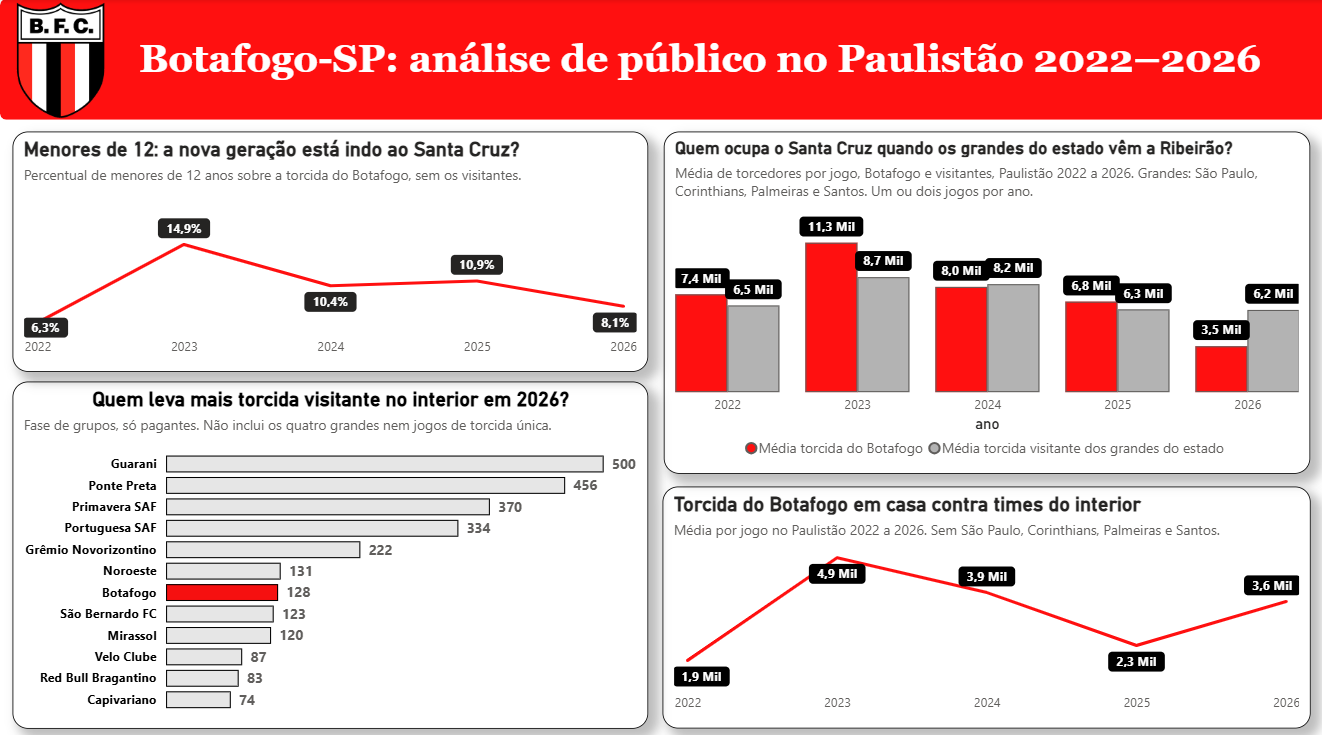

The dashboard page shown, as its layout file describes it:
{"tool":"powerbi","page":{"name":"Página 1","canvas":[1280,720],"ordinal":0},"visuals":[{"type":"lineChart","title":"Torcida do Botafogo em casa contra times do interior","fields":{"Category":["Sheet1.ano"],"Y":["Avg(Sheet1.Público de torcedores do Botafogo)"]},"box":[639.5,470.7,625.7,233.3],"z":0},{"type":"actionButton","box":[0,0,100,40],"z":1000},{"type":"lineClusteredColumnComboChart","title":"Quem ocupa o Santa Cruz quando os grandes do estado vêm a Ribeirão?","fields":{"Category":["Sheet1.ano"],"Y":["Avg(Sheet1.Público de torcedores do Botafogo)","Avg(Sheet1.visitantes)"]},"box":[640.8,127.6,624.4,330.7],"z":2000},{"type":"lineChart","title":"Menores de 12: a nova geração está indo ao Santa Cruz?","fields":{"Category":["Sheet1.ano"],"Y":["Sheet1.%menores"]},"box":[12.3,127.6,613.4,231.9],"z":3000},{"type":"clusteredBarChart","title":"Quem leva mais torcida visitante no interior em 2026?","fields":{"Category":["Sheet1 (2).visitante"],"Y":["Sum(Sheet1 (2).media)"]},"box":[12.3,369.1,613.4,334.8],"z":4000},{"type":"shape","box":[0,0,1280.3,116.6],"z":5000},{"type":"textbox","box":[129,31.6,1125.2,54.9],"z":6000},{"type":"image","box":[0,1.4,116.6,115.3],"z":7000}]}

Visuals, with their boxes in screenshot pixels (x1, y1, x2, y2), scaled from the page's 1280x720 canvas onto the 1322x735 screenshot:
"Torcida do Botafogo em casa contra times do interior" lineChart: 660, 481, 1307, 719
actionButton: 0, 0, 103, 41
"Quem ocupa o Santa Cruz quando os grandes do estado vêm a Ribeirão?" lineClusteredColumnComboChart: 662, 130, 1307, 468
"Menores de 12: a nova geração está indo ao Santa Cruz?" lineChart: 13, 130, 646, 367
"Quem leva mais torcida visitante no interior em 2026?" clusteredBarChart: 13, 377, 646, 719
shape: 0, 0, 1321, 119
textbox: 133, 32, 1295, 88
image: 0, 1, 120, 119
